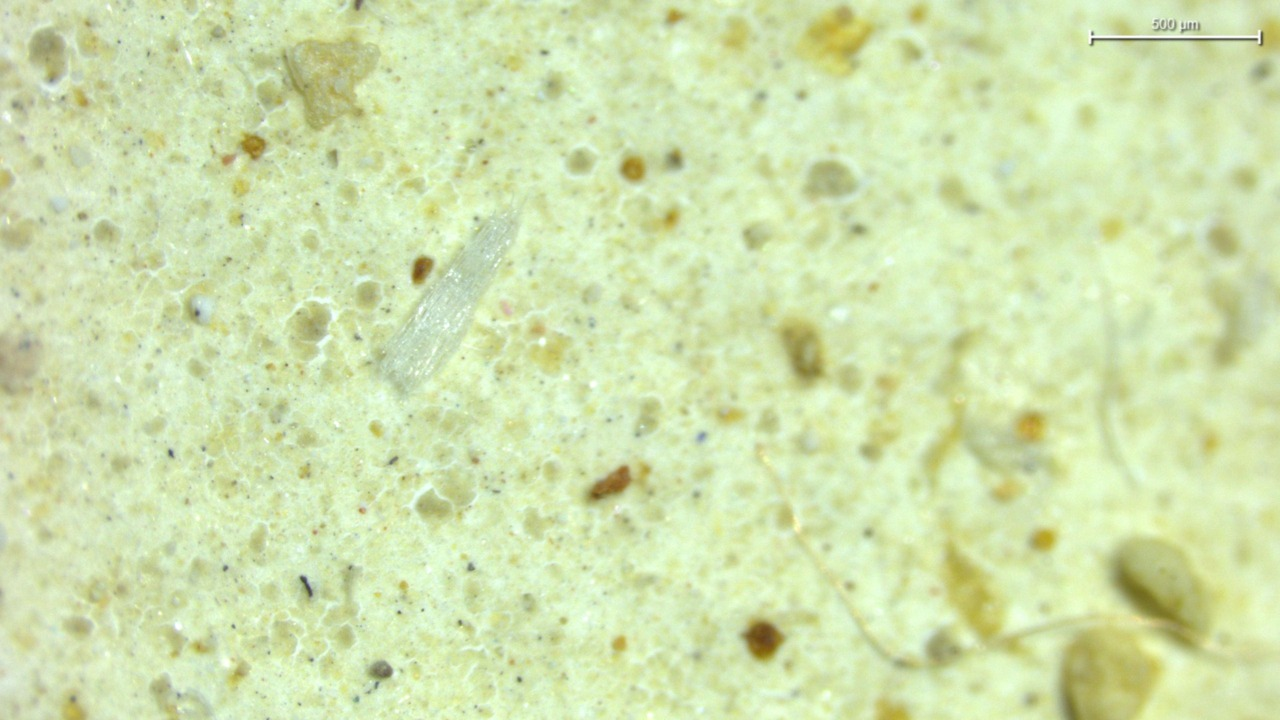microplastic_fragment: (378, 213, 518, 393)
